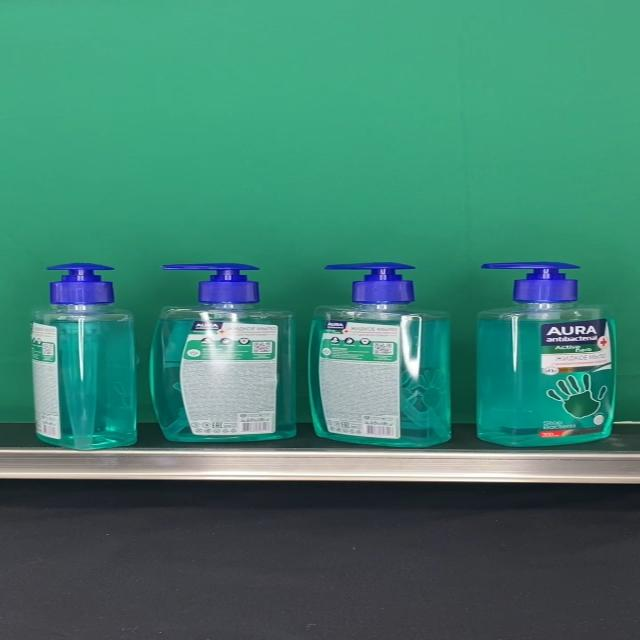Bottle: (308, 262, 452, 448), (150, 263, 298, 442), (476, 260, 616, 448), (31, 262, 137, 451)
Cap: (479, 261, 580, 303), (164, 263, 259, 304), (324, 262, 415, 304), (50, 263, 115, 304)
